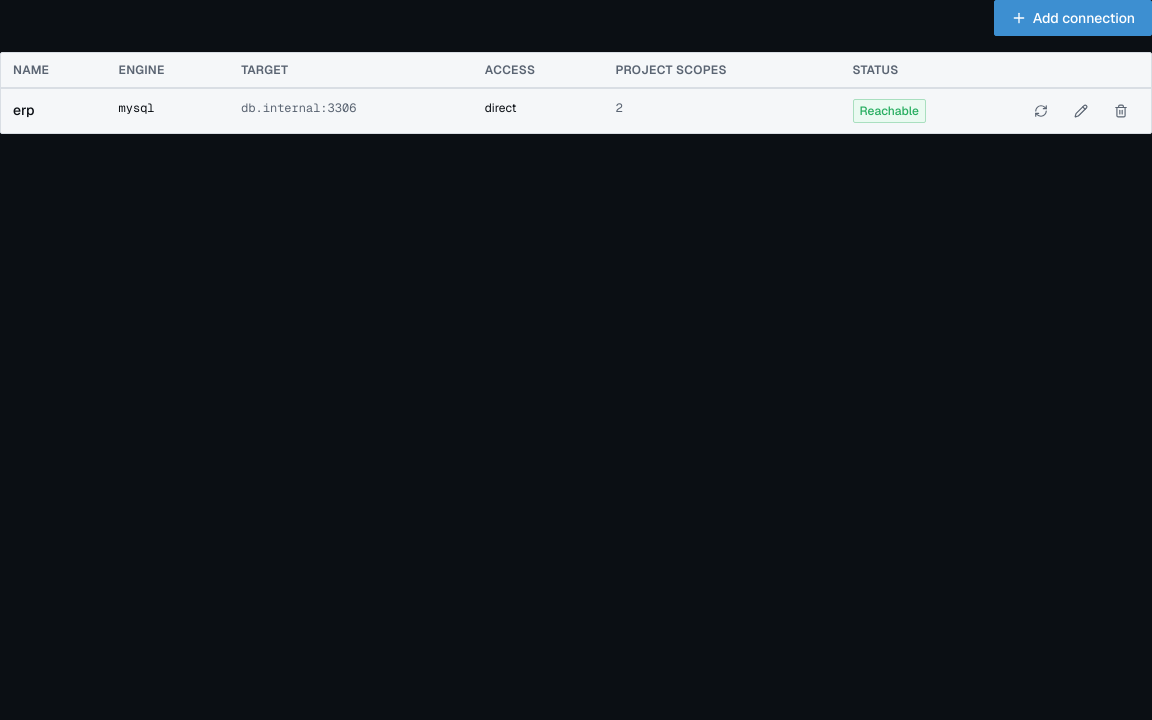
Test case: DatabasesTab › lists every project scope in the delete confirmation
Expected: the text "erp" is shown, x1=13 y1=101 x2=34 y2=119
Click the button named "Delete" at (1121,111), box x1=1103 y1=99 x2=1139 y2=123
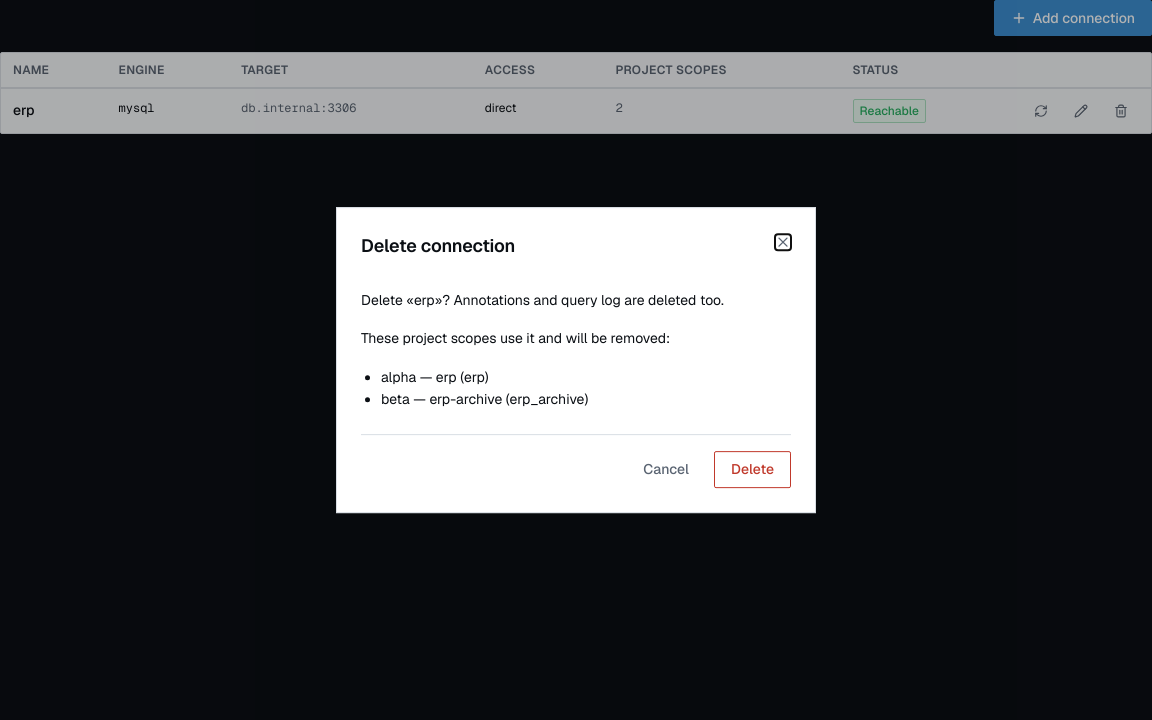
Expected: the list item "alpha — erp (erp)" is shown, x1=381 y1=368 x2=489 y2=386
Expected: the list item "beta — erp-archive (erp_archive)" is shown, x1=381 y1=390 x2=588 y2=408
Expected: the text "These project scopes use it and will be removed:" is shown, x1=361 y1=329 x2=670 y2=347
